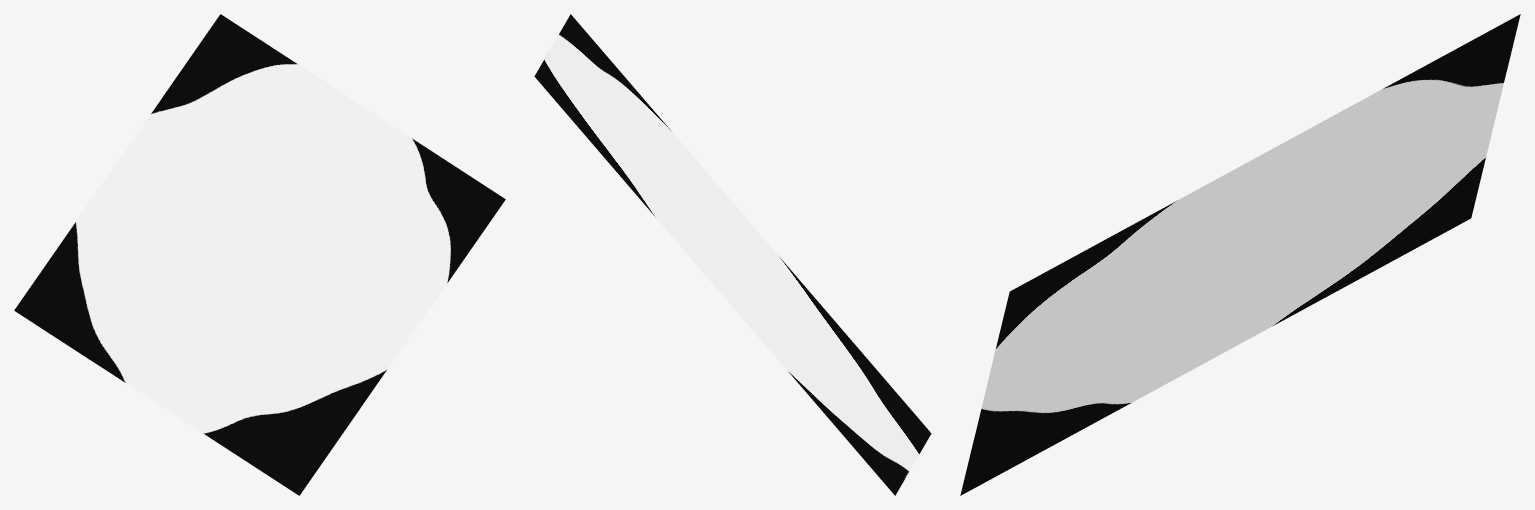
File: LightPierce.glb
The picture shows the model from 3 angles, left to right: view 1: azimuth 30°, elevation 25°; view 2: azimuth 150°, elevation 25°; view 3: azimuth 270°, elevation 25°; orthographic projection. The views are drawn at different scales.
Parts seen in each view (by area): view 1: Plane; view 2: Plane; view 3: Plane.
Boxes of the visible parts, left/top/right/bottom form: Plane: left=14, top=14, right=505, bottom=495; Plane: left=534, top=14, right=931, bottom=495; Plane: left=960, top=14, right=1520, bottom=495.
Size of the model in its own units: 2.24 by 2.04 by 1.87.
1 material, 1 textured.
